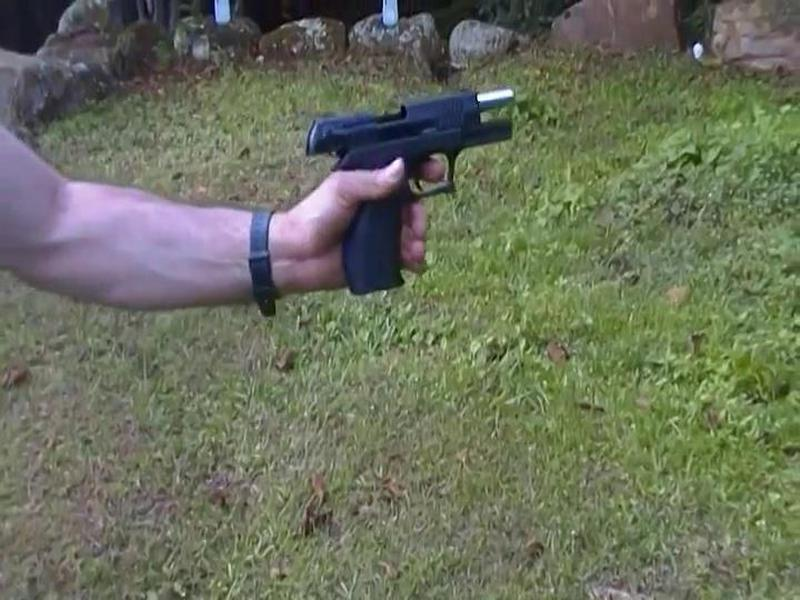Pistola: (281, 71, 540, 300)
